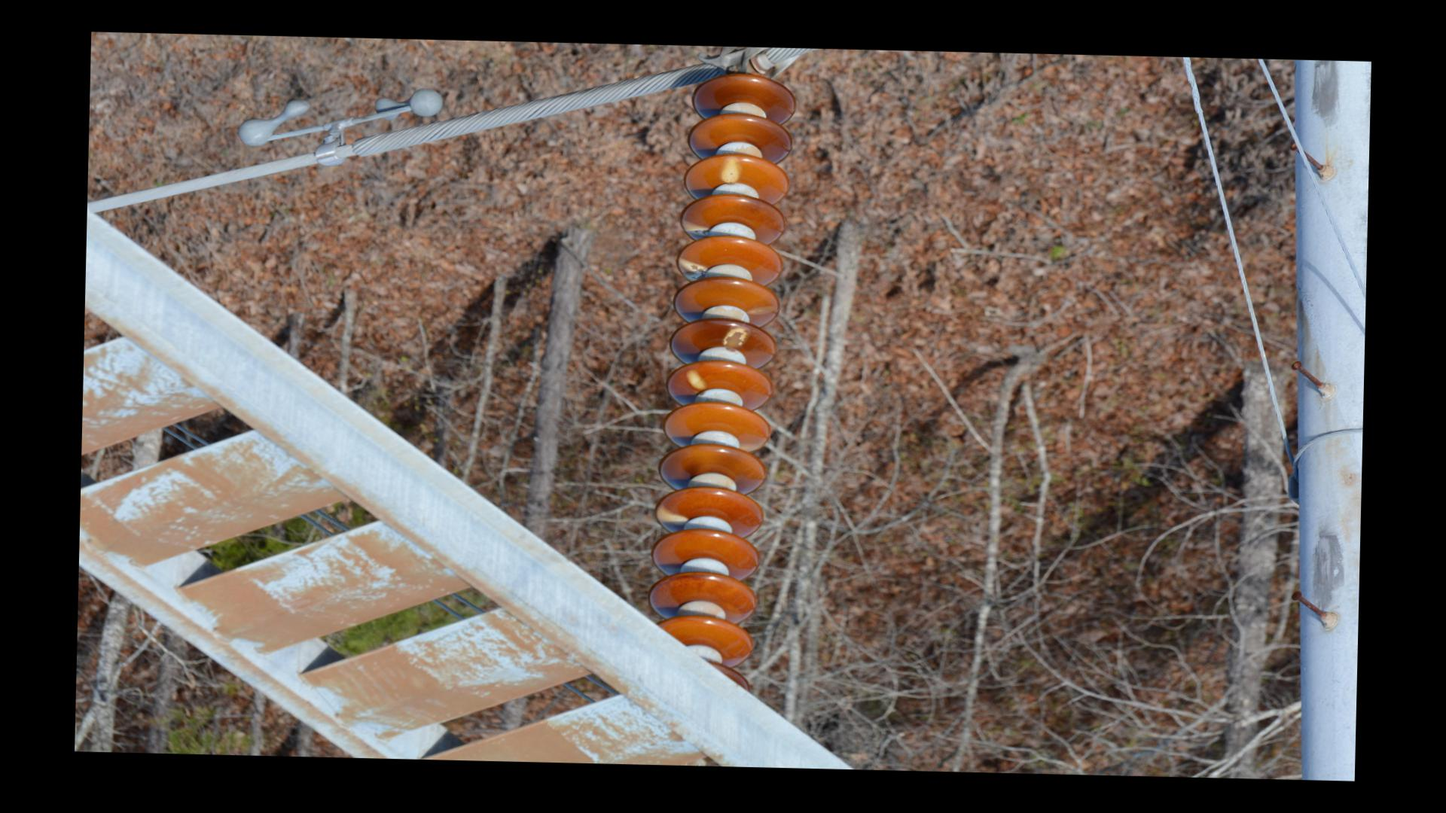damper: (233, 79, 450, 172)
